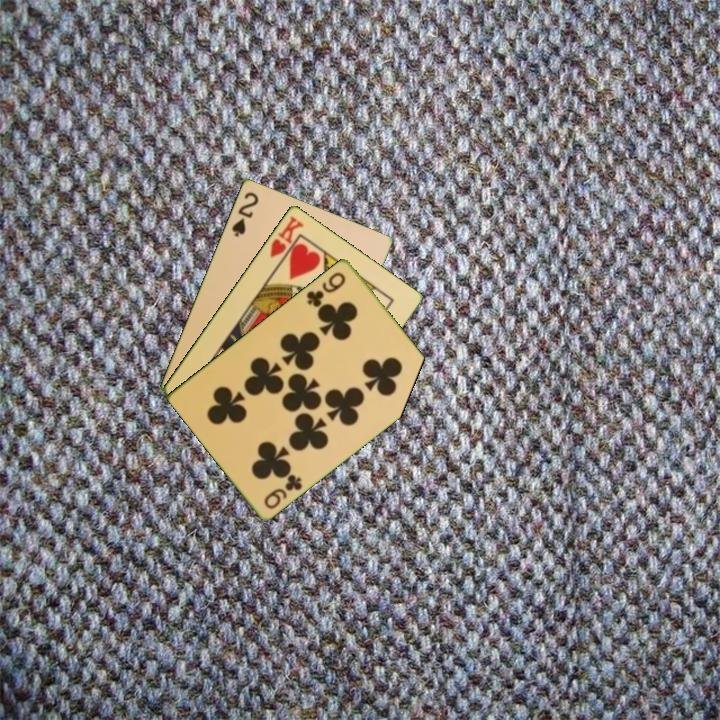2s: (228, 188, 261, 239)
9c: (303, 268, 349, 310), (260, 470, 305, 512)
Kh: (266, 212, 307, 268)
